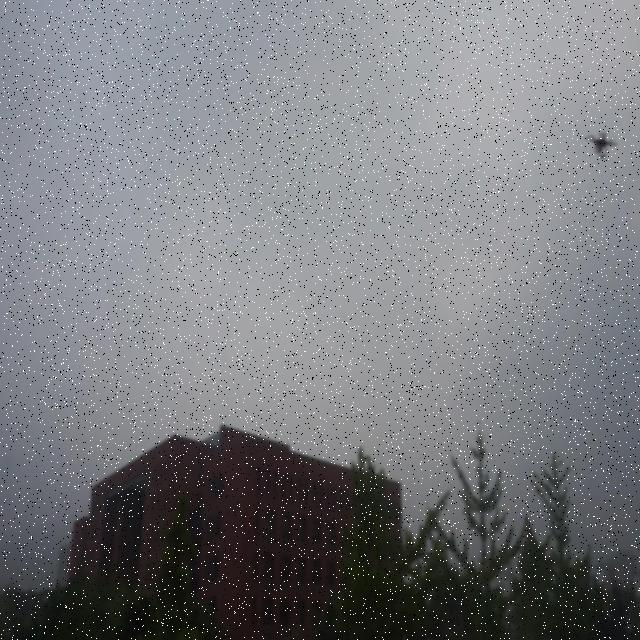UAV: (586, 133, 618, 158)
